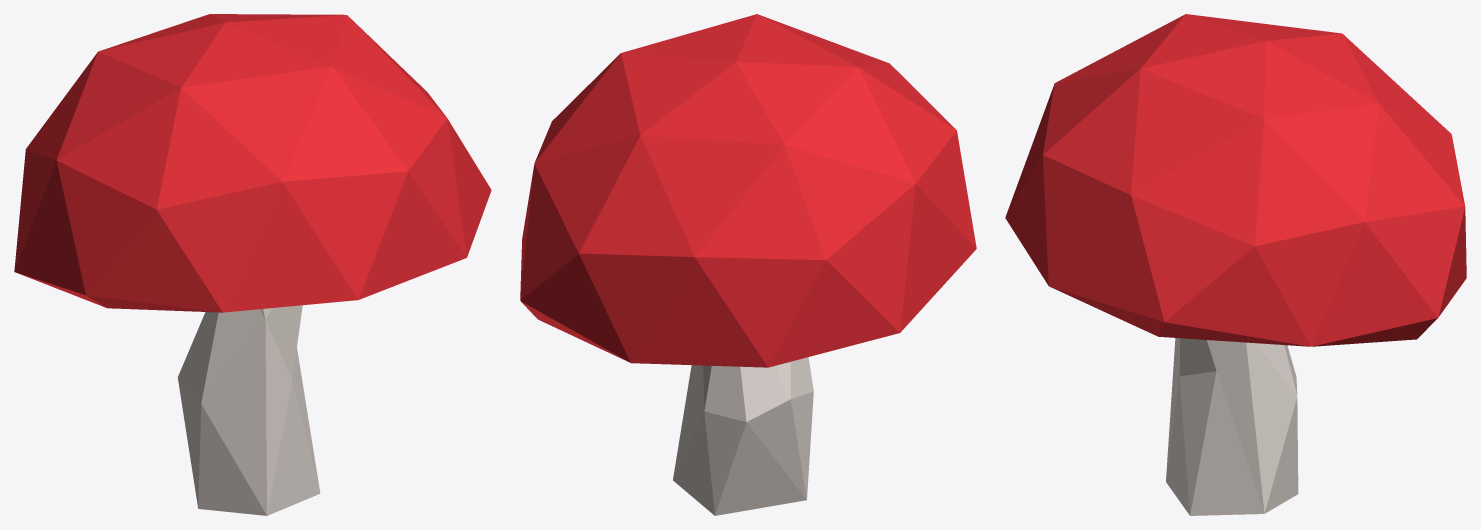
Rendered from ShroomA.fbx.
3 renders of one model, left to right at view 1: azimuth 30°, elevation 25°; view 2: azimuth 150°, elevation 25°; view 3: azimuth 270°, elevation 25°, orthographic. The views are drawn at different scales.
Visible parts, largest first — view 1: Icosphere.001, Cube; view 2: Icosphere.001, Cube; view 3: Icosphere.001, Cube.
Boxes of the visible parts, bbox=[...] form: Icosphere.001: bbox=[14, 14, 491, 312]; Cube: bbox=[177, 305, 320, 515]; Icosphere.001: bbox=[520, 14, 976, 367]; Cube: bbox=[673, 357, 813, 515]; Icosphere.001: bbox=[1005, 14, 1466, 346]; Cube: bbox=[1166, 338, 1298, 515].
Bounding box in the file's own units: 36.43 × 39.1 × 36.3.
